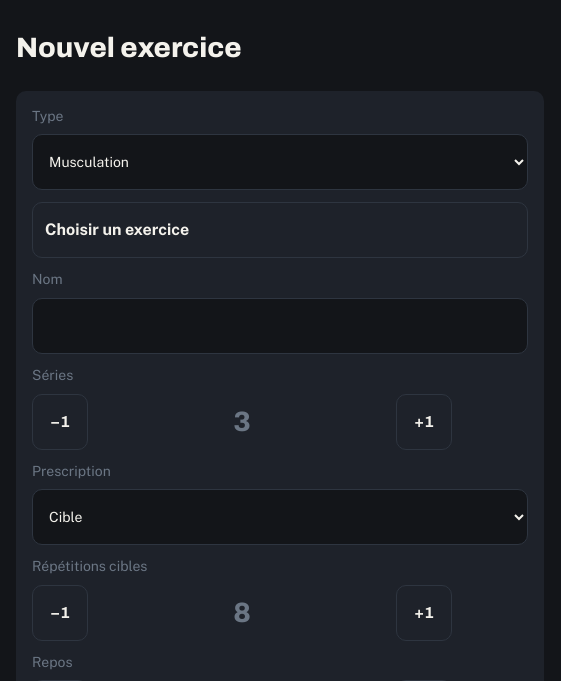
édition d'un élément de programme › refuse d'enregistrer un élément core sans exercice sélectionné
The width and height of the screenshot is (561, 681).
Expected: the button "Choisir un exercice" is shown, [32,202,528,258]
Select "Gainage" in the dropdown labelled "Type": (280, 162) [32,134,528,190]
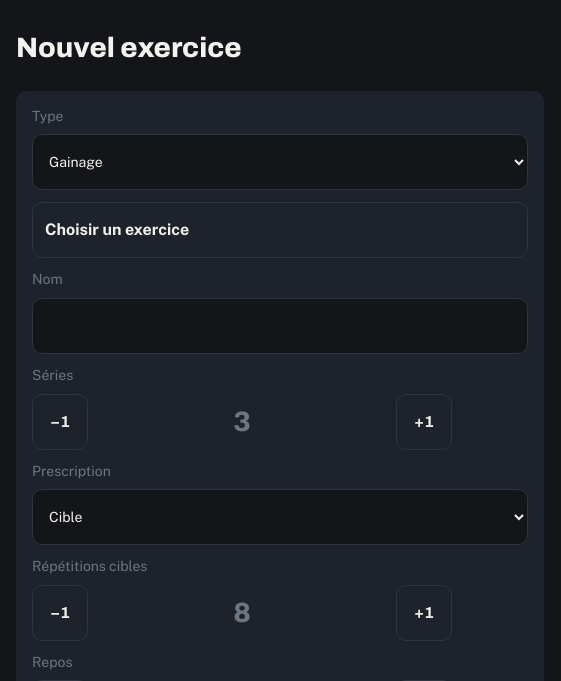
In the field labelled "Nom": (280, 326) [32,298,528,354], type "Gainage"
(page scrolled)
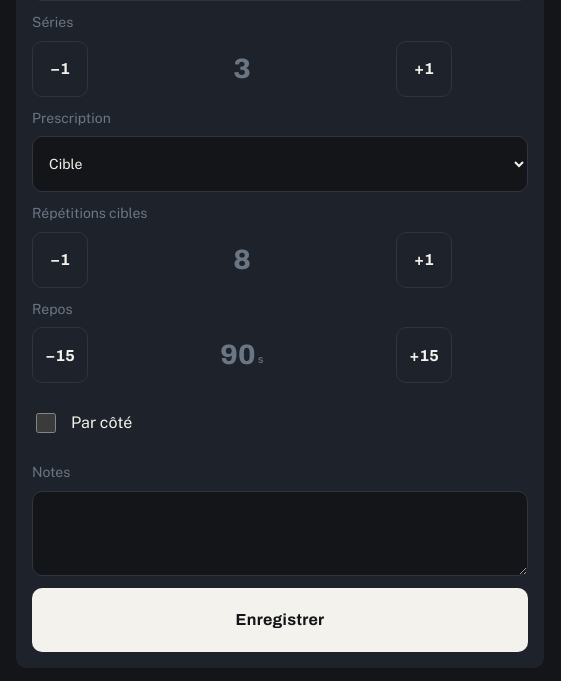
Click the button "Enregistrer": (280, 620) [32,588,528,652]
(page scrolled)
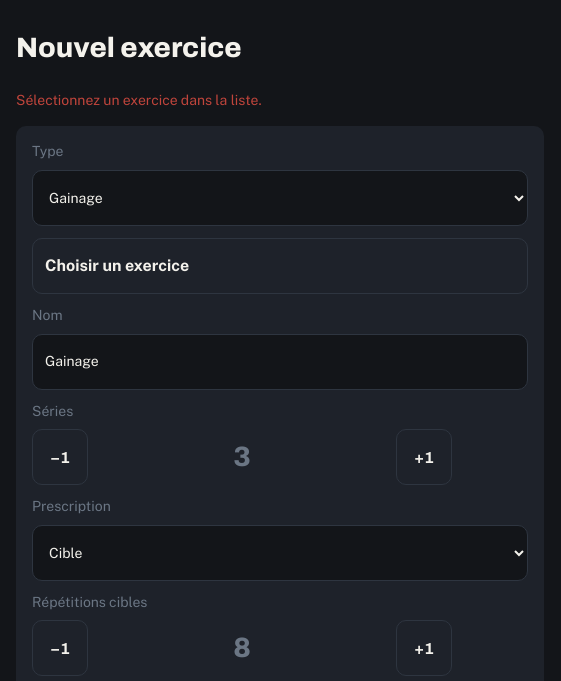
Result: the message reads "Sélectionnez un exercice dans la liste." at [16,92,262,108]
